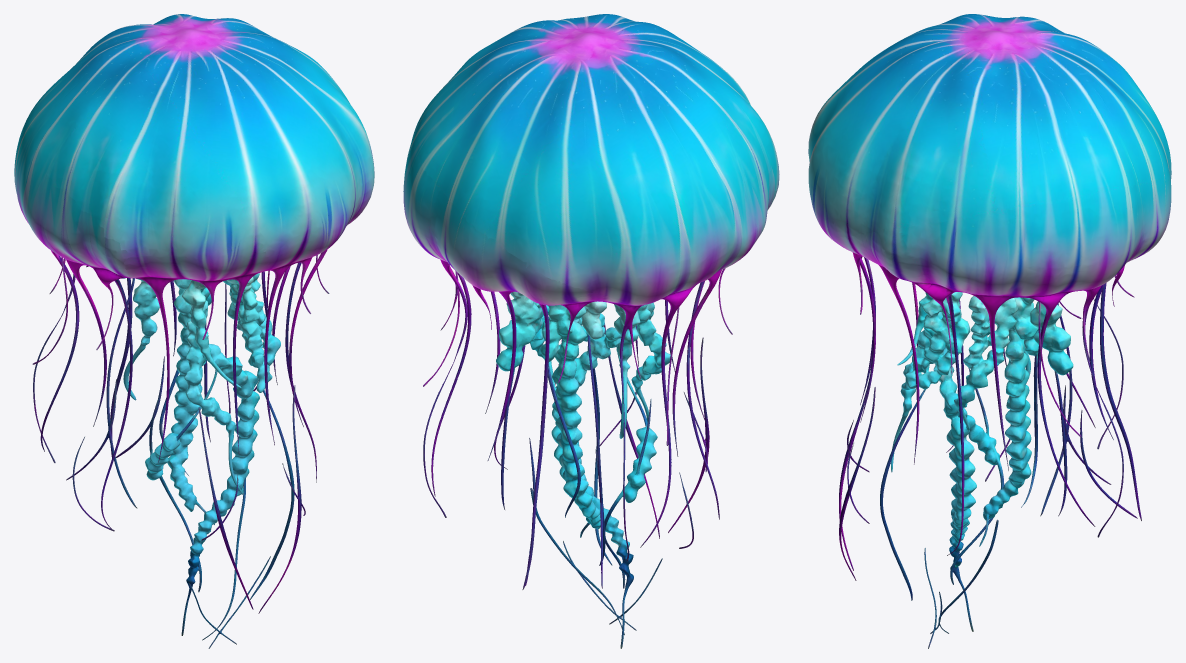
The model's file is jellyfish-v2.glb.
3 views of the same model, side by side, from view 1: azimuth 30°, elevation 25°; view 2: azimuth 150°, elevation 25°; view 3: azimuth 270°, elevation 25° (orthographic). The views are drawn at different scales.
Size of the model in its own units: 1.05 by 1.9 by 1.03.
Materials: 1 (1 with a texture image).
